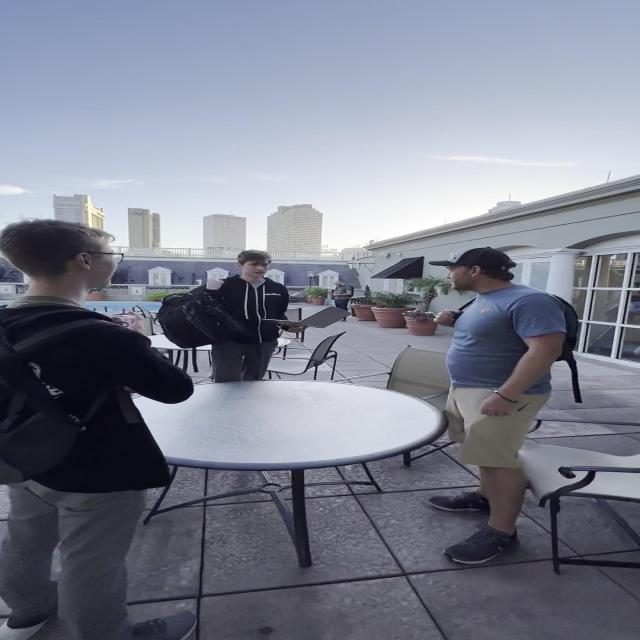NO-Mask: (90, 238, 116, 290), (446, 264, 474, 290), (244, 260, 269, 276), (334, 282, 340, 288)
